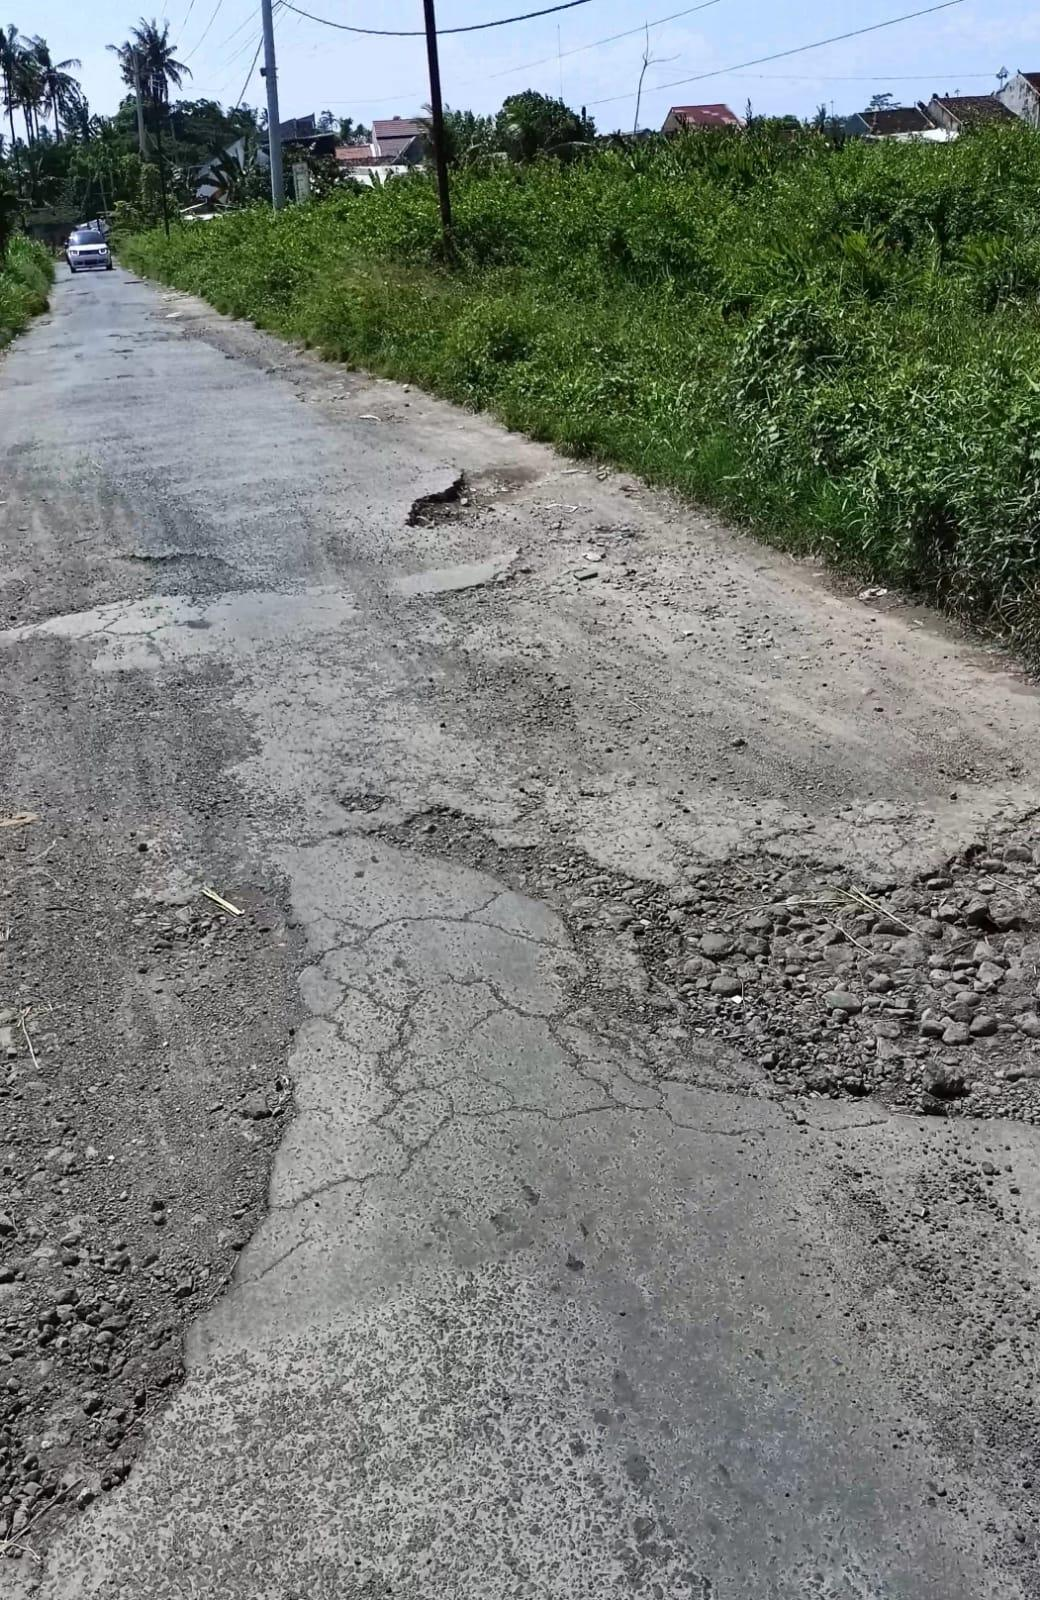Pothole: (482, 737, 1040, 1349), (422, 417, 617, 616)
